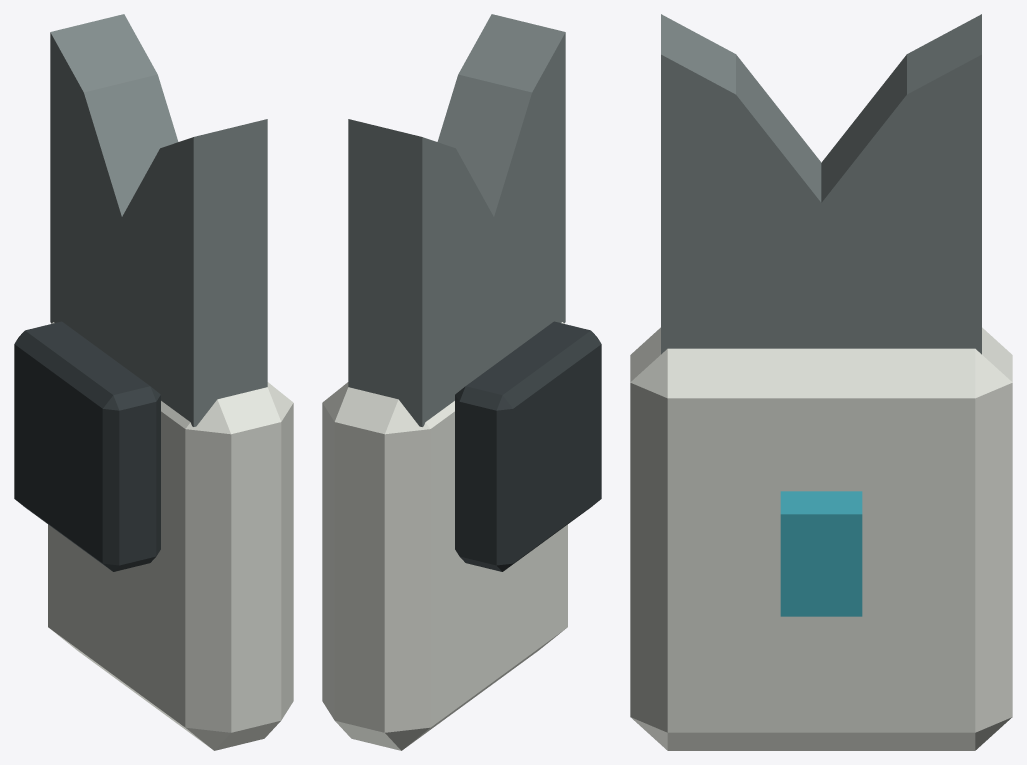
File: person_tool_bombardment.obj
The picture shows the model from 3 angles, left to right: view 1: azimuth 30°, elevation 25°; view 2: azimuth 150°, elevation 25°; view 3: azimuth 270°, elevation 25°; orthographic projection. The views are drawn at different scales.
Visible parts, largest first — view 1: person_tool_bombardment; view 2: person_tool_bombardment; view 3: person_tool_bombardment.
Boxes of the visible parts, x1,y1,x2,y2 form: person_tool_bombardment: [14, 14, 293, 750]; person_tool_bombardment: [322, 14, 601, 750]; person_tool_bombardment: [630, 14, 1012, 750].
Size of the model in its own units: 0.079 by 0.225 by 0.112.
